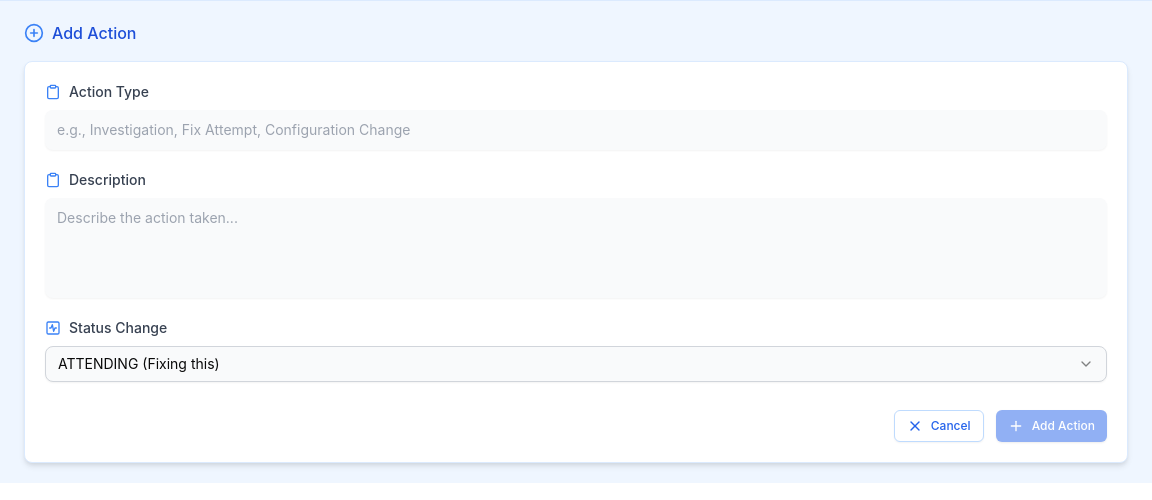
Test case: AddActionForm › Form Validation Tests › enables Add Action button when required fields are filled
// Fill in action type
Type "Investigation" into the field labelled "Action Type".
click(576, 130); type("Investigation")  # box x1=45 y1=110 x2=1107 y2=150
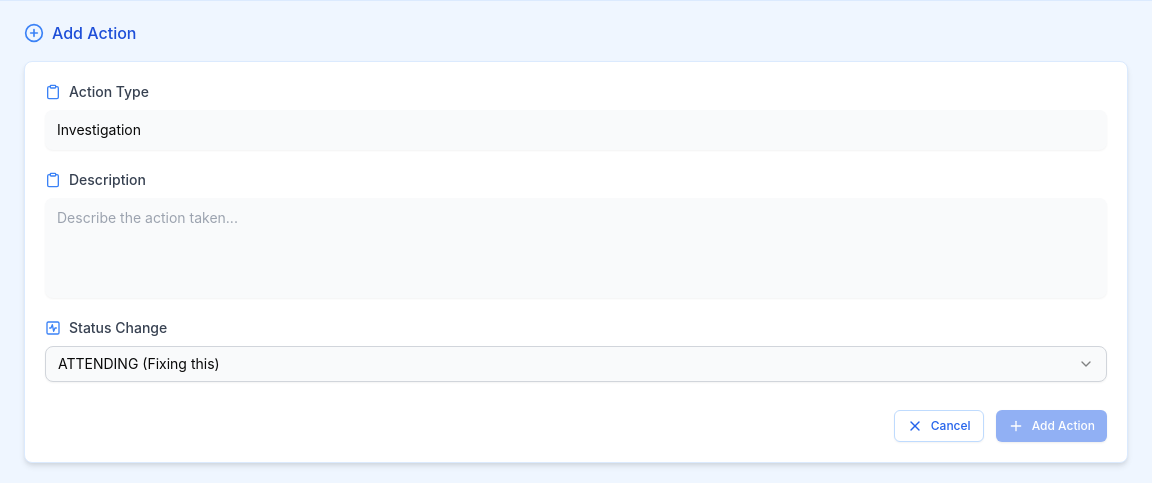
Expected: the button "Add Action" is disabled, x1=996 y1=410 x2=1107 y2=442
// Fill in description
Type "Investigating the issue..." into the text box labelled "Description".
click(576, 248); type("Investigating the issue...")  # box x1=45 y1=198 x2=1107 y2=298
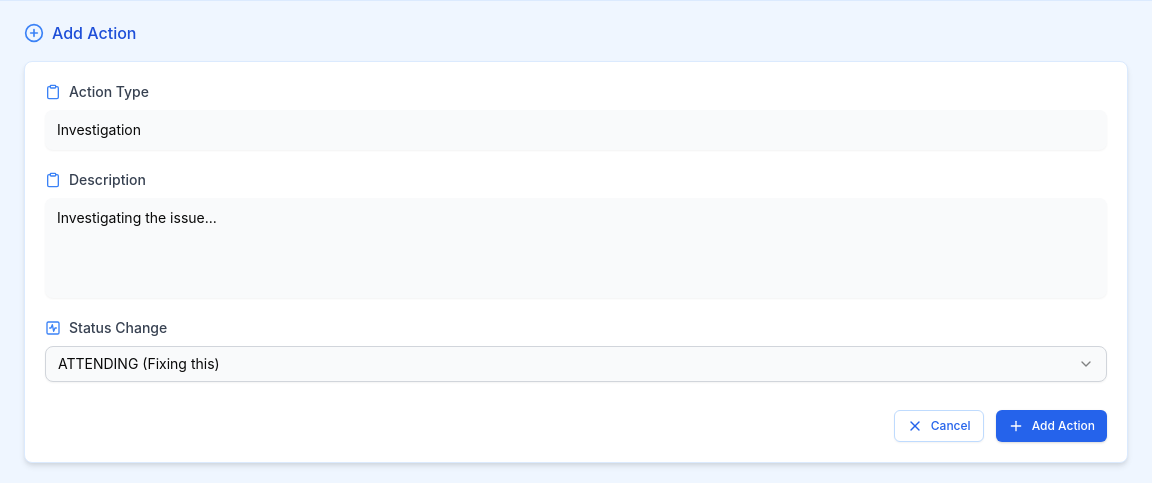
Expected: the button "Add Action" is enabled, x1=996 y1=410 x2=1107 y2=442
// Clear action type
Clear the field labelled "Action Type" at x=576, y=130, box x1=45 y1=110 x2=1107 y2=150
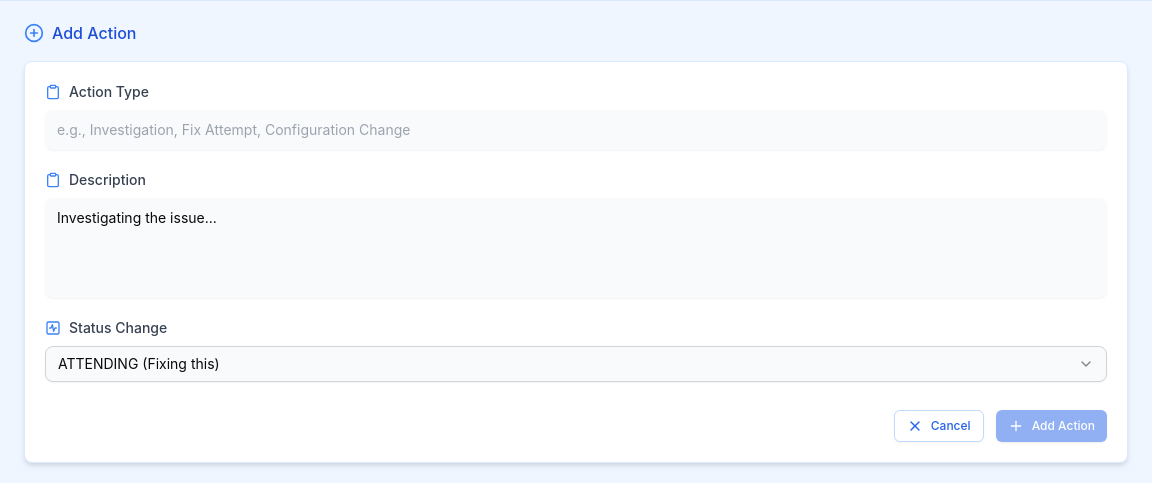
Expected: the button "Add Action" is disabled, x1=996 y1=410 x2=1107 y2=442
// Fill in action type again
Type "Investigation" into the field labelled "Action Type".
click(576, 130); type("Investigation")  # box x1=45 y1=110 x2=1107 y2=150
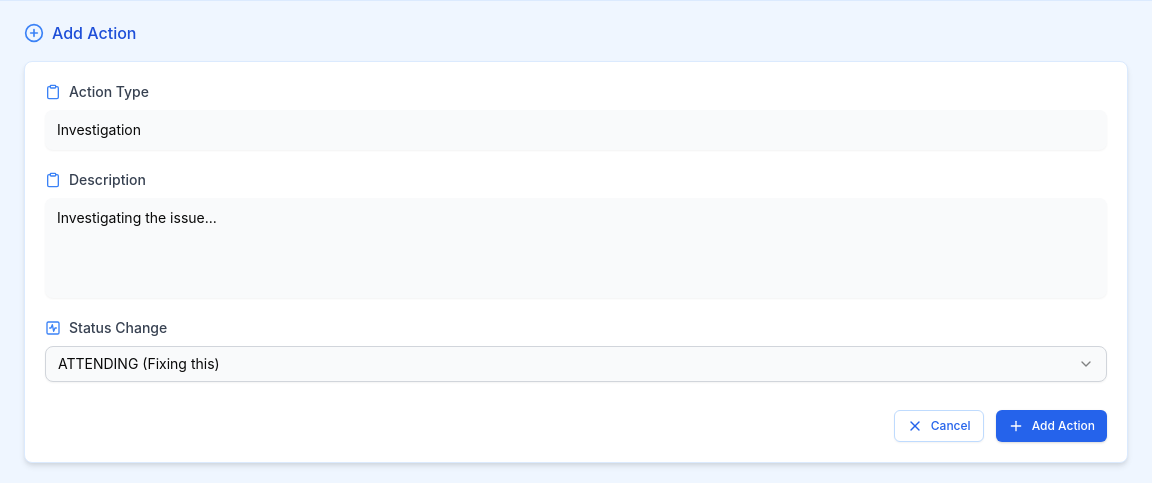
Expected: the button "Add Action" is enabled, x1=996 y1=410 x2=1107 y2=442
// Clear description
Clear the text box labelled "Description" at x=576, y=248, box x1=45 y1=198 x2=1107 y2=298
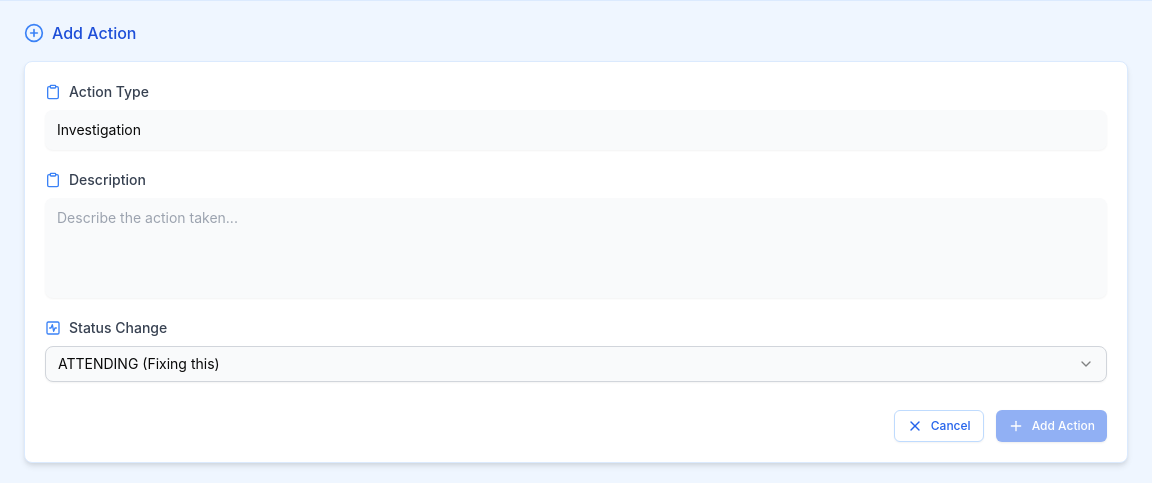
Expected: the button "Add Action" is disabled, x1=996 y1=410 x2=1107 y2=442
